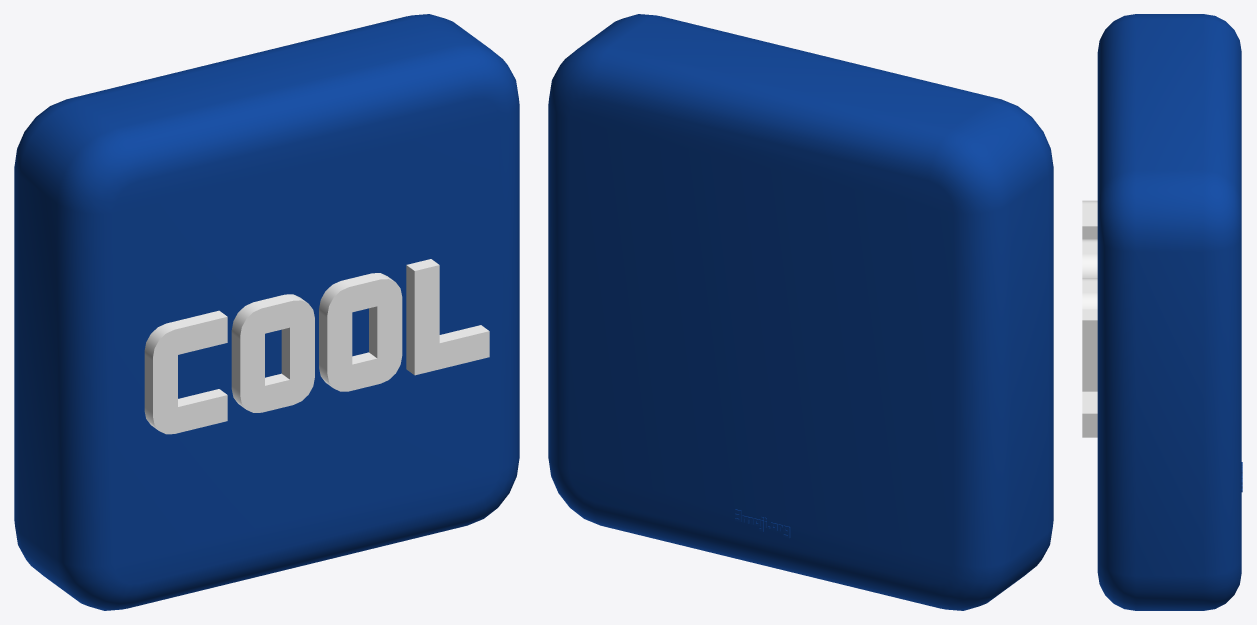
Rendered from cool_button.gltf.
The picture shows the model from 3 angles, left to right: view 1: azimuth 30°, elevation 25°; view 2: azimuth 150°, elevation 25°; view 3: azimuth 270°, elevation 25°; orthographic projection. The views are drawn at different scales.
Visible parts, largest first — view 1: Cube.6610; view 2: Cube.6610; view 3: Cube.6610.
Boxes of the visible parts, <box> form: Cube.6610: <box>14,14,519,610</box>; Cube.6610: <box>548,14,1053,610</box>; Cube.6610: <box>1082,14,1242,610</box>.
Size of the model in its own units: 2.2 by 2.2 by 0.7337.
1 material, 1 textured.
